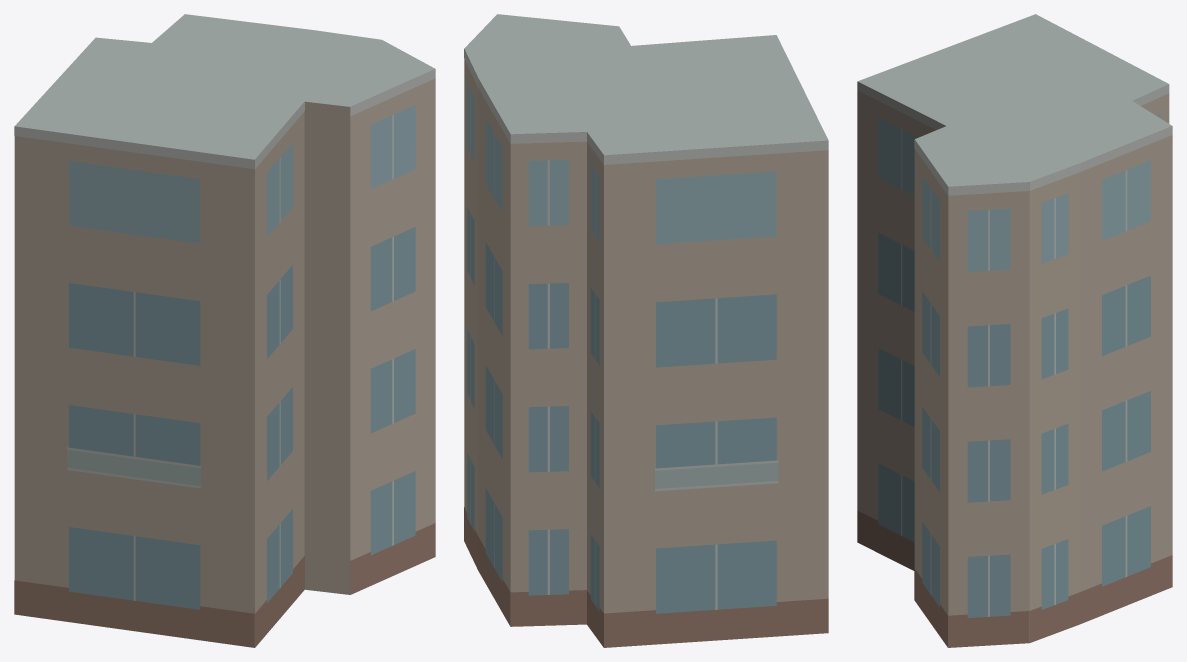
Rendered from survey-upis-32970003.glb.
The picture shows the model from 3 angles, left to right: view 1: azimuth 30°, elevation 25°; view 2: azimuth 150°, elevation 25°; view 3: azimuth 270°, elevation 25°; orthographic projection. The views are drawn at different scales.
Parts seen in each view (by area): view 1: survey-upis-32970003.tmp; view 2: survey-upis-32970003.tmp; view 3: survey-upis-32970003.tmp.
Part boxes in pixels (<box>): survey-upis-32970003.tmp: <box>14,14,435,647</box>; survey-upis-32970003.tmp: <box>464,14,828,647</box>; survey-upis-32970003.tmp: <box>857,14,1172,647</box>.
Bounding box in the file's own units: 10.05 × 12.5 × 7.75.
